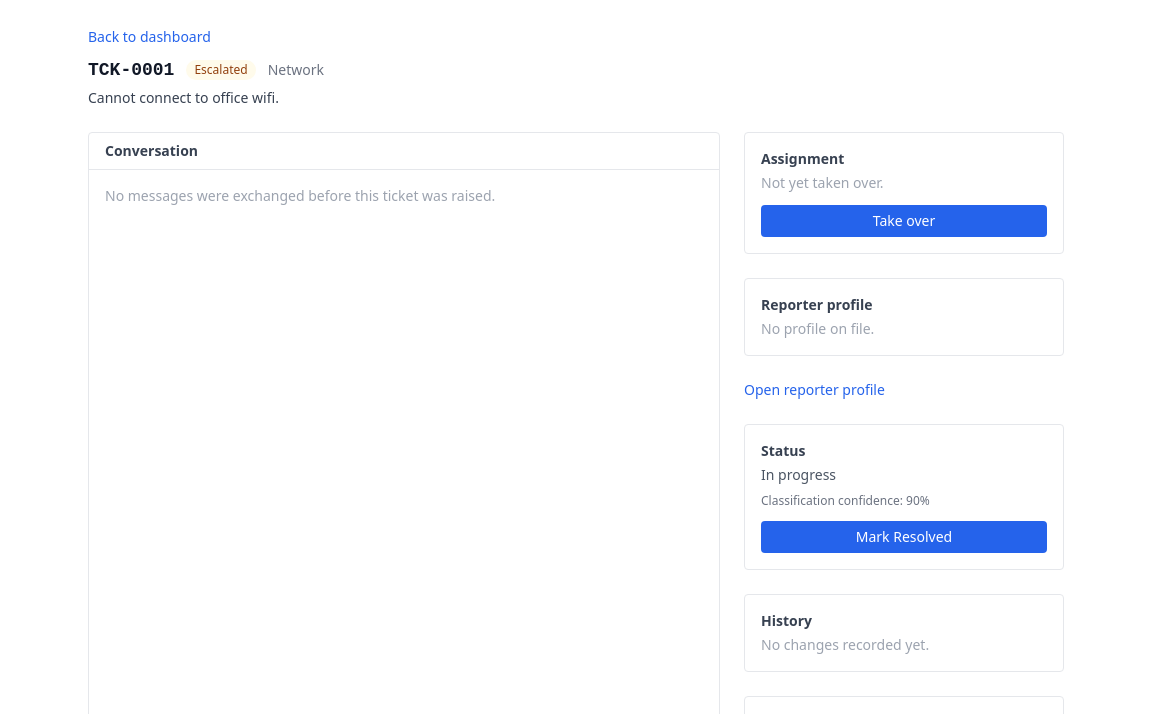
TicketDetailPage assignment › shows a conflict message when the ticket was already taken (409)
Check: the heading "TCK-0001" is shown, box x1=88 y1=56 x2=174 y2=84
Click the button "Take over".
click(904, 221)  # box x1=761 y1=205 x2=1047 y2=237
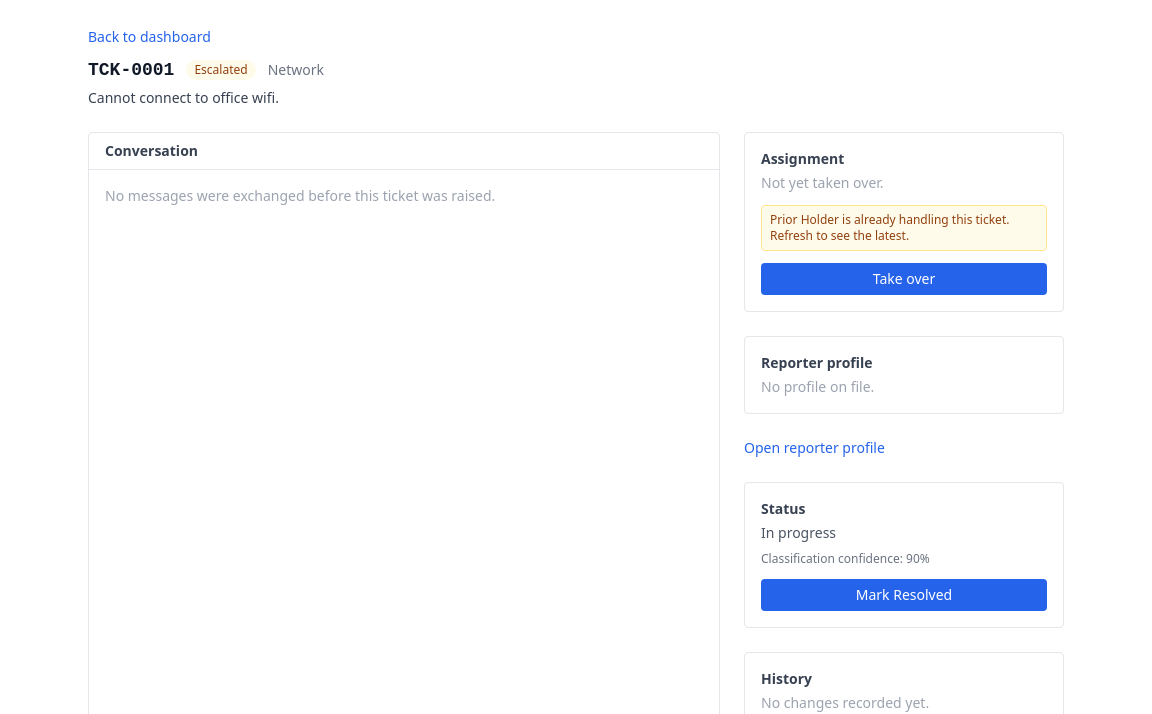
Check: the text "Prior Holder is already handling this ticket. Refresh to see the latest." is shown, box x1=761 y1=205 x2=1047 y2=251
